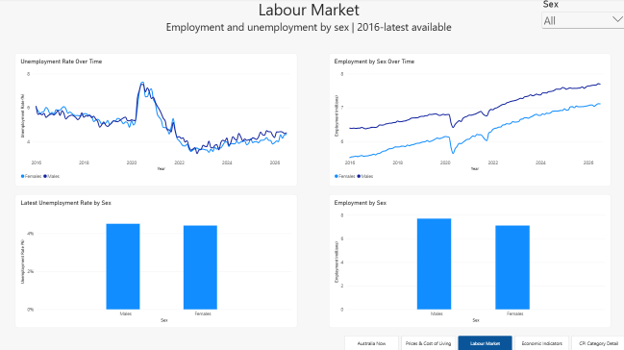

The page's visual inventory and layout, read from the dashboard file:
{"tool":"powerbi","page":{"name":"Labour Market","canvas":[1920,1080],"ordinal":2},"visuals":[{"type":"textbox","box":[216,0,1464,144],"z":0},{"type":"lineChart","title":"Employment by Sex Over Time","fields":{"Category":["DimDate.Date"],"Series":["Labour Force.Sex"],"Y":["Labour Force.Employment (M)"]},"box":[1008,168,864,408],"z":1000},{"type":"lineChart","title":"Unemployment Rate Over Time","fields":{"Category":["DimDate.Date"],"Series":["Labour Force.Sex"],"Y":["Sum(Labour Force.Value)"]},"box":[48,168,864,408],"z":2000},{"type":"clusteredColumnChart","title":"Employment by Sex","fields":{"Category":["Labour Force.Sex"],"Y":["Labour Force.Employment (M)"]},"box":[1008,600,864,408],"z":3000},{"type":"clusteredColumnChart","title":"Latest Unemployment Rate by Sex","fields":{"Category":["Labour Force.Sex"],"Y":["Labour Force.Latest Unemployment Rate %"]},"box":[48,600,864,408],"z":4000},{"type":"slicer","fields":{"Values":["Labour Force.Sex"]},"box":[1656,0,264,144],"z":5000},{"type":"pageNavigator","box":[1056,1032,864,48],"z":6000}]}

Visuals, with their boxes on the page's 1920x1080 design canvas (x1, y1, x2, y2). These are canvas units, not pixel positions in the 624x350 screenshot, which may show the page scaled, cropped or inside an application window:
textbox: x1=216 y1=0 x2=1680 y2=144
"Employment by Sex Over Time" lineChart: x1=1008 y1=168 x2=1872 y2=576
"Unemployment Rate Over Time" lineChart: x1=48 y1=168 x2=912 y2=576
"Employment by Sex" clusteredColumnChart: x1=1008 y1=600 x2=1872 y2=1008
"Latest Unemployment Rate by Sex" clusteredColumnChart: x1=48 y1=600 x2=912 y2=1008
slicer - Labour Force.Sex: x1=1656 y1=0 x2=1920 y2=144
pageNavigator: x1=1056 y1=1032 x2=1920 y2=1080
